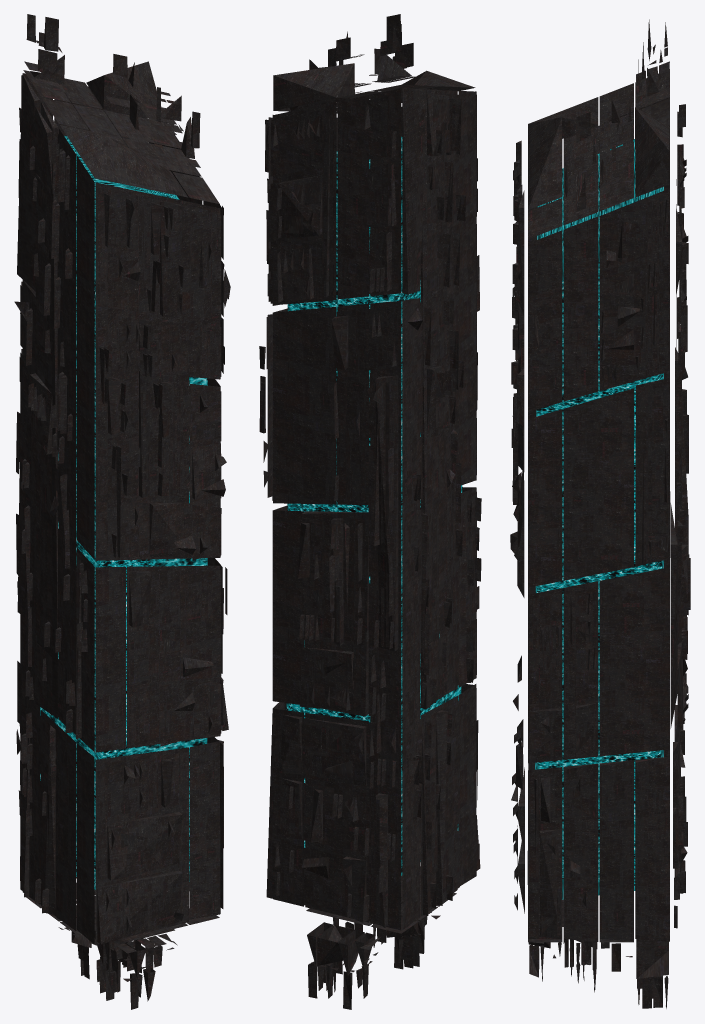
File: AlphaBlueblackTower.glb
3 views of the same model, side by side, from view 1: azimuth 30°, elevation 25°; view 2: azimuth 150°, elevation 25°; view 3: azimuth 270°, elevation 25° (orthographic). The views are drawn at different scales.
Parts seen in each view (by area): view 1: PILLAR_ALPHA; view 2: PILLAR_ALPHA; view 3: PILLAR_ALPHA.
Part boxes in pixels (left/top/right/bottom): PILLAR_ALPHA: left=14, top=14, right=230, bottom=1009; PILLAR_ALPHA: left=259, top=14, right=481, bottom=1009; PILLAR_ALPHA: left=510, top=19, right=690, bottom=1008.
Size of the model in its own units: 2.91 by 17.21 by 2.93.
Materials: 2 (2 with a texture image).
